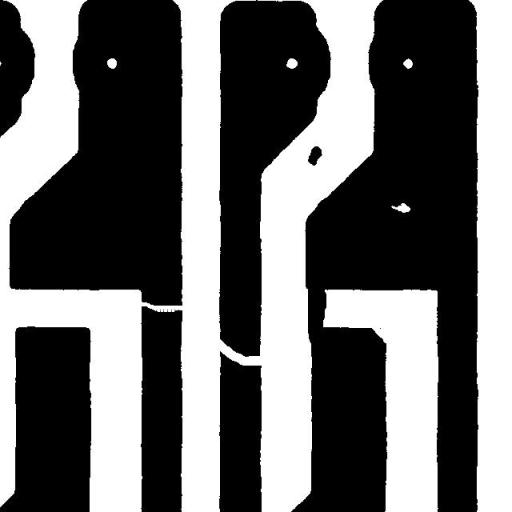copper: (300, 138, 330, 173)
mousebite: (364, 315, 398, 352)
open: (206, 330, 271, 373), (124, 291, 192, 319)
pin-hole: (383, 195, 418, 220)
short: (300, 271, 334, 355)
